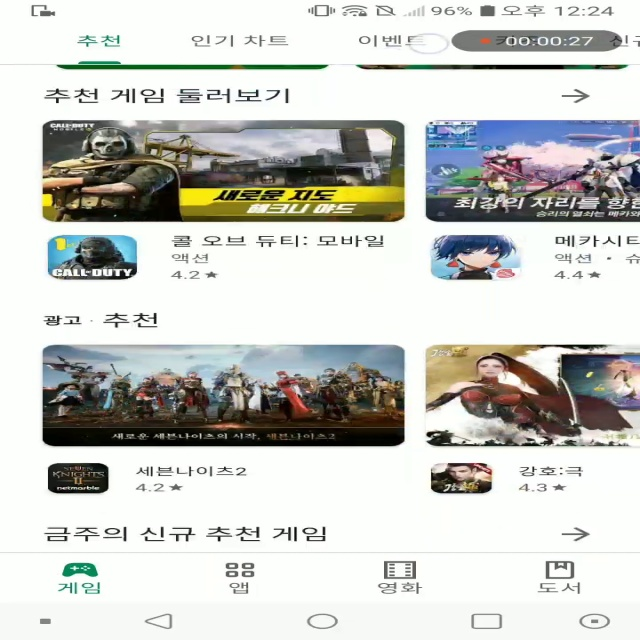Cursor: (408, 33, 452, 56)
